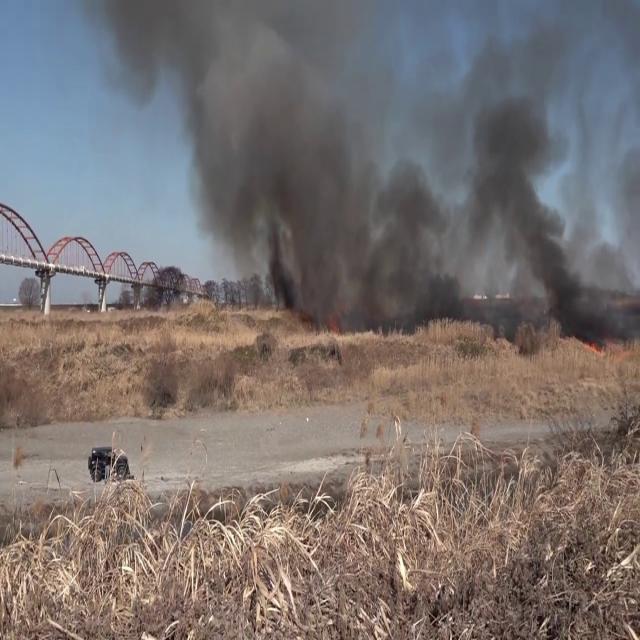Smoke: (70, 0, 436, 306), (452, 0, 640, 320)
